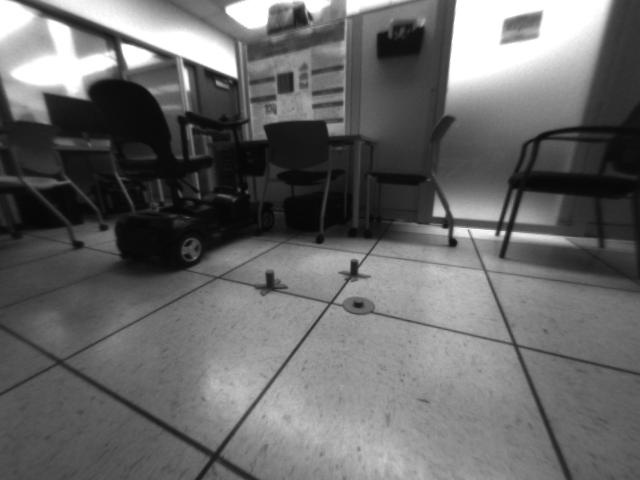X: (255, 271, 289, 297), (339, 258, 371, 284)
